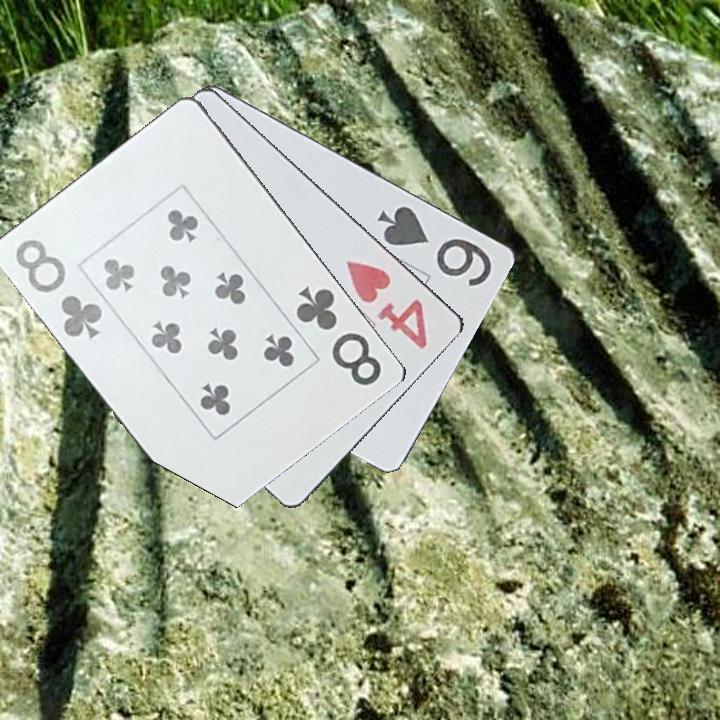4h: (342, 255, 432, 353)
6s: (373, 200, 496, 290)
8c: (12, 235, 107, 343), (292, 282, 386, 389)
